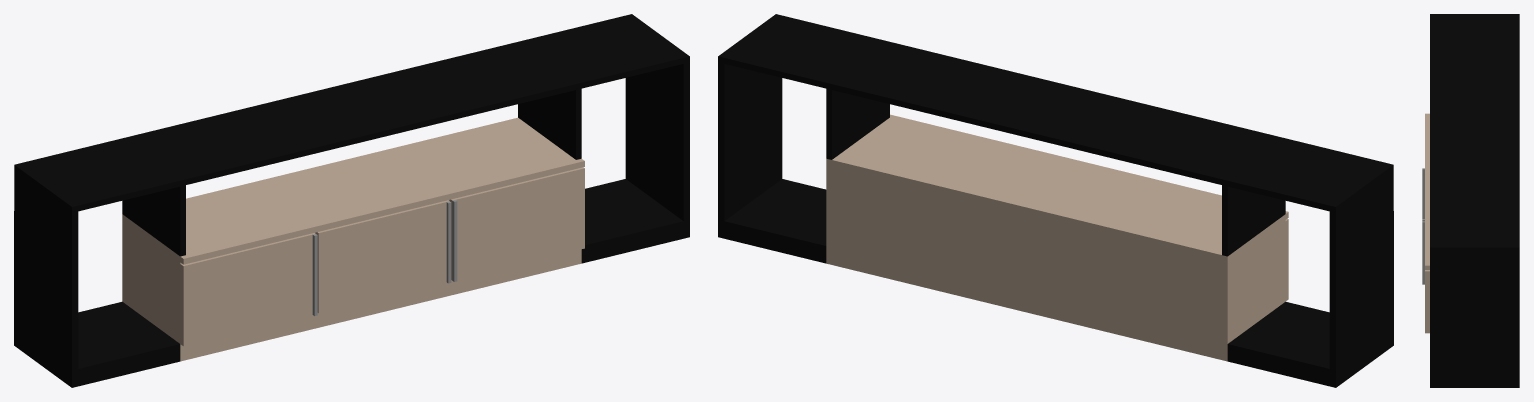
Rendered from uploads_files_618550_Tv+Stand_01_fbx.FBX.
3 renders of one model, left to right at view 1: azimuth 30°, elevation 25°; view 2: azimuth 150°, elevation 25°; view 3: azimuth 270°, elevation 25°, orthographic. The views are drawn at different scales.
Visible parts, largest first — view 1: 234obj03, 234obj01, 234obj02; view 2: 234obj03, 234obj01; view 3: 234obj03, 234obj01, 234obj02.
Part boxes in pixels (<box>): 234obj03: <box>14,14,689,387</box>; 234obj01: <box>122,117,584,361</box>; 234obj02: <box>312,200,457,315</box>; 234obj03: <box>718,14,1393,387</box>; 234obj01: <box>826,114,1288,361</box>; 234obj03: <box>1430,14,1519,387</box>; 234obj01: <box>1425,113,1429,333</box>; 234obj02: <box>1422,168,1424,284</box>.
Size of the model in its own units: 111 by 19.55 by 31.
